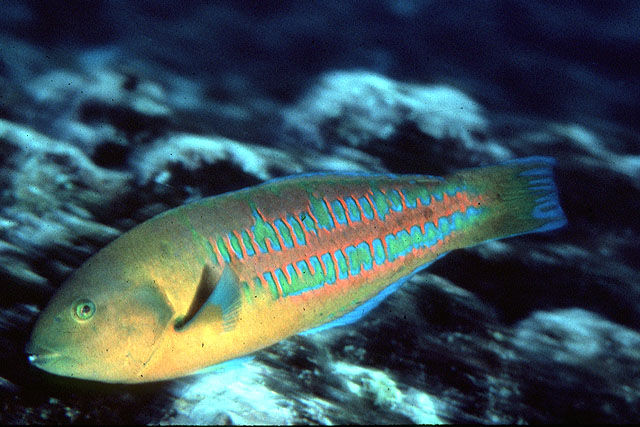fish: (26, 154, 569, 385)
